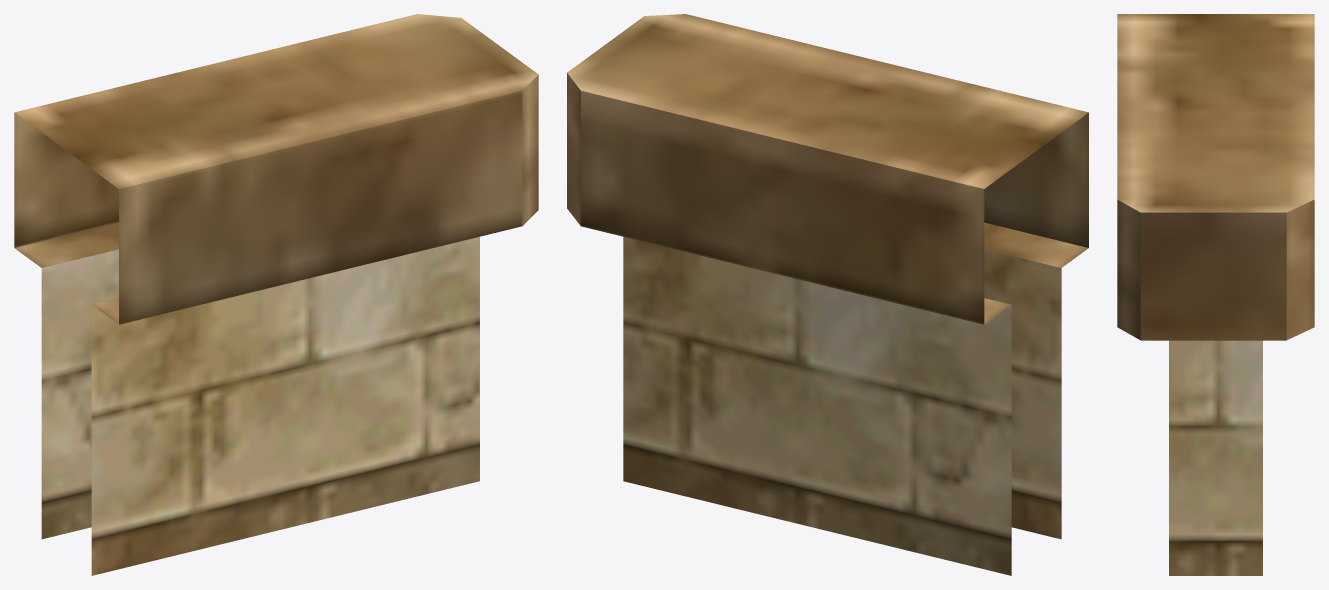
File: DesertTown - wall - edge.fbx
3 views of the same model, side by side, from view 1: azimuth 30°, elevation 25°; view 2: azimuth 150°, elevation 25°; view 3: azimuth 270°, elevation 25° (orthographic). The views are drawn at different scales.
Parts seen in each view (by area): view 1: DesertTown_wall_edge; view 2: DesertTown_wall_edge; view 3: DesertTown_wall_edge.
Boxes of the visible parts, box(x1,y1,x2,y2) form: DesertTown_wall_edge: box(14, 14, 538, 575); DesertTown_wall_edge: box(567, 14, 1088, 575); DesertTown_wall_edge: box(1117, 14, 1314, 575).
Bounding box in the file's own units: 1 × 0.9 × 0.42.
